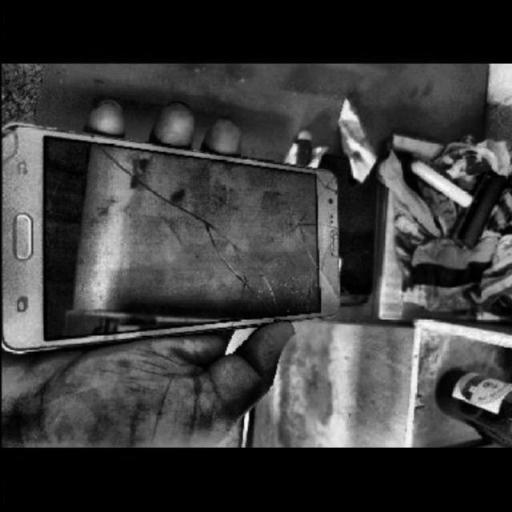phone: (0, 121, 372, 356)
